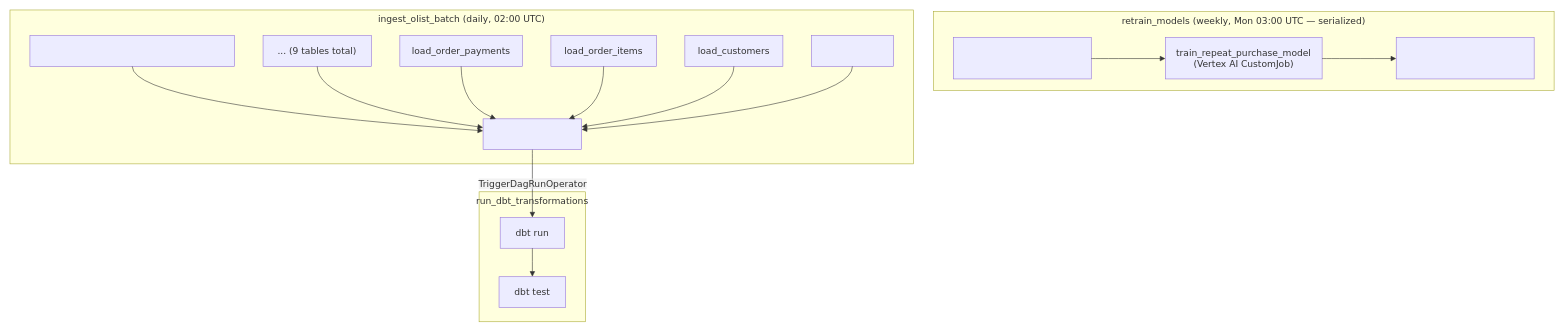
Some shapes in this 1564 by 332 pixel diagram are drawn without their labels. Each missing label, with the centre of its shape:
load_orders: (852,50)
load_product_category_name_translation: (132,50)
train_forecasting (KubernetesPodOperator): (1465,58)
train_segmentation (KubernetesPodOperator): (1022,58)
trigger_dbt_run: (532,134)
